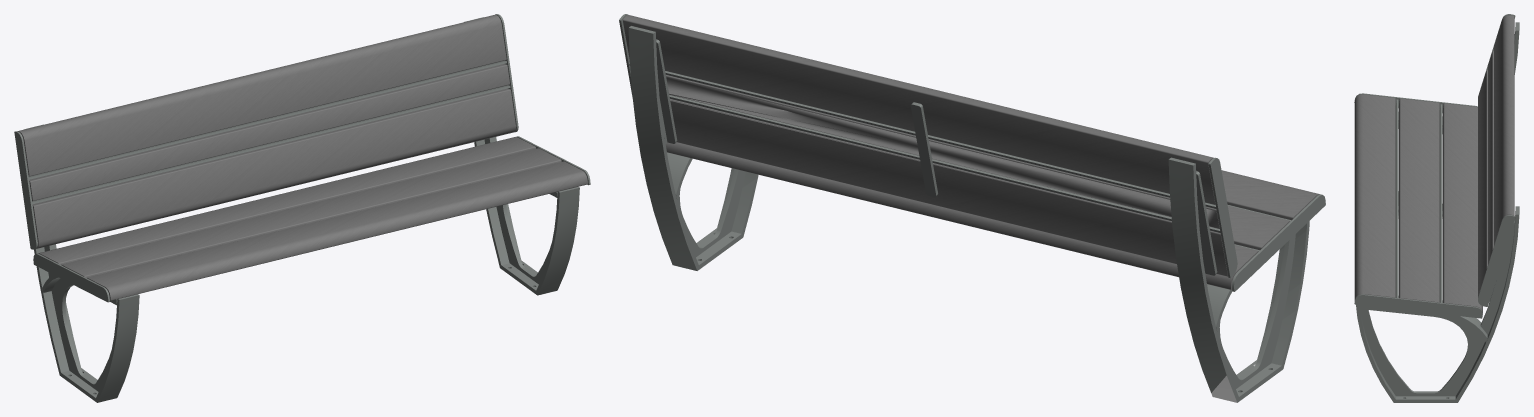
File: sf_park_bench.glb
3 renders of one model, left to right at view 1: azimuth 30°, elevation 25°; view 2: azimuth 150°, elevation 25°; view 3: azimuth 270°, elevation 25°, orthographic. The views are drawn at different scales.
Visible parts, largest first — view 1: Object_6, Object_2; view 2: Object_6, Object_2, Object_3; view 3: Object_6, Object_2, Object_3.
Part boxes in pixels (bbox=[...]): Object_6: bbox=[18, 14, 587, 300]; Object_2: bbox=[14, 14, 590, 402]; Object_6: bbox=[623, 15, 1318, 289]; Object_2: bbox=[619, 14, 1325, 402]; Object_3: bbox=[667, 152, 1232, 330]; Object_6: bbox=[1354, 15, 1514, 313]; Object_2: bbox=[1354, 14, 1519, 402]; Object_3: bbox=[1360, 33, 1515, 341].
Size of the model in its own units: 1.85 by 0.82 by 0.64.
4 materials, 2 textured.
